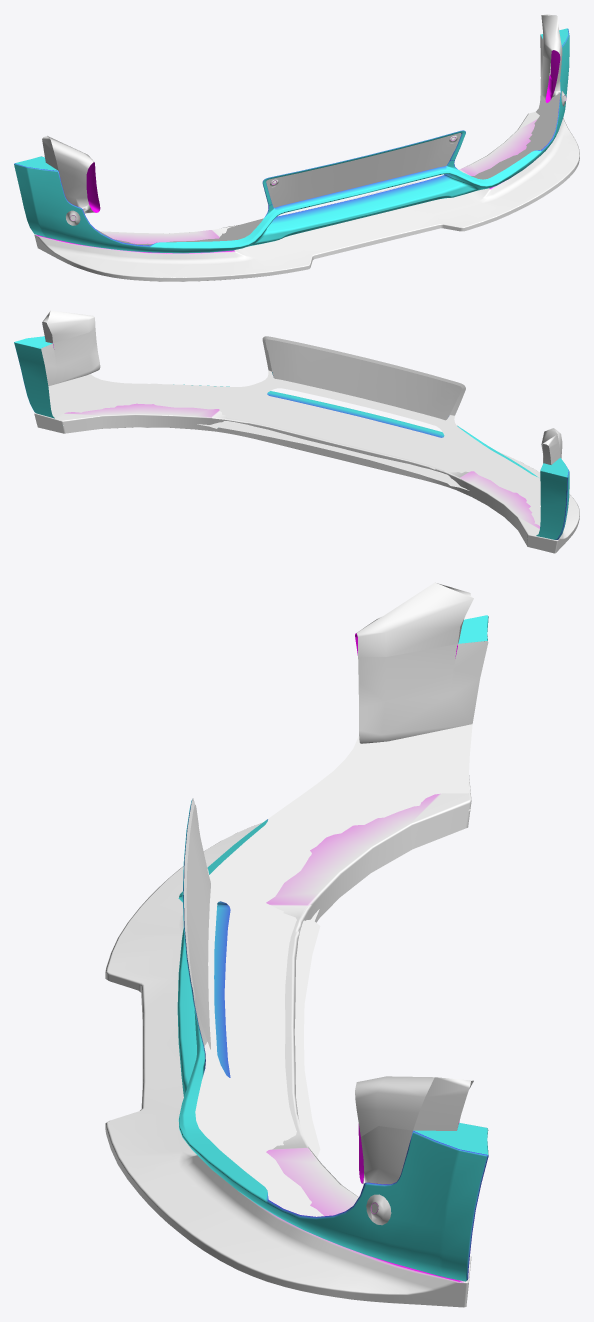
The model's file is Car_Mini_CountrymanJCW_2017_Splitter_SetC_AltG.fbx.
3 renders of one model, top to bottom at view 1: azimuth 30°, elevation 25°; view 2: azimuth 150°, elevation 25°; view 3: azimuth 270°, elevation 25°, orthographic. The views are drawn at different scales.
Parts seen in each view (by area): view 1: Splitter 6; view 2: Splitter 6; view 3: Splitter 6.
Boxes of the visible parts, x1=… form: Splitter 6: x1=14, y1=14, x2=579, y2=281; Splitter 6: x1=14, y1=310, x2=579, y2=553; Splitter 6: x1=105, y1=582, x2=488, y2=1307.
Size of the model in its own units: 1.89 by 0.3686 by 0.5646.
